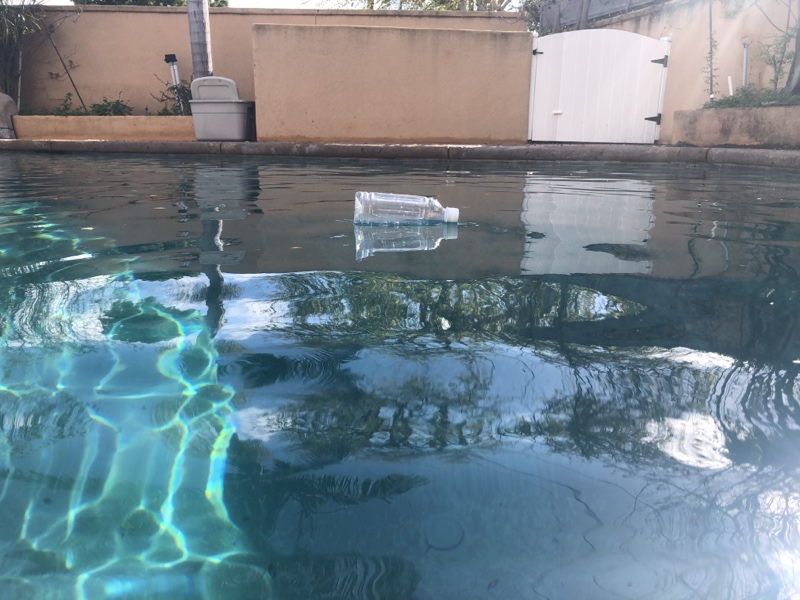Plastic Bottle: (350, 187, 464, 234)
